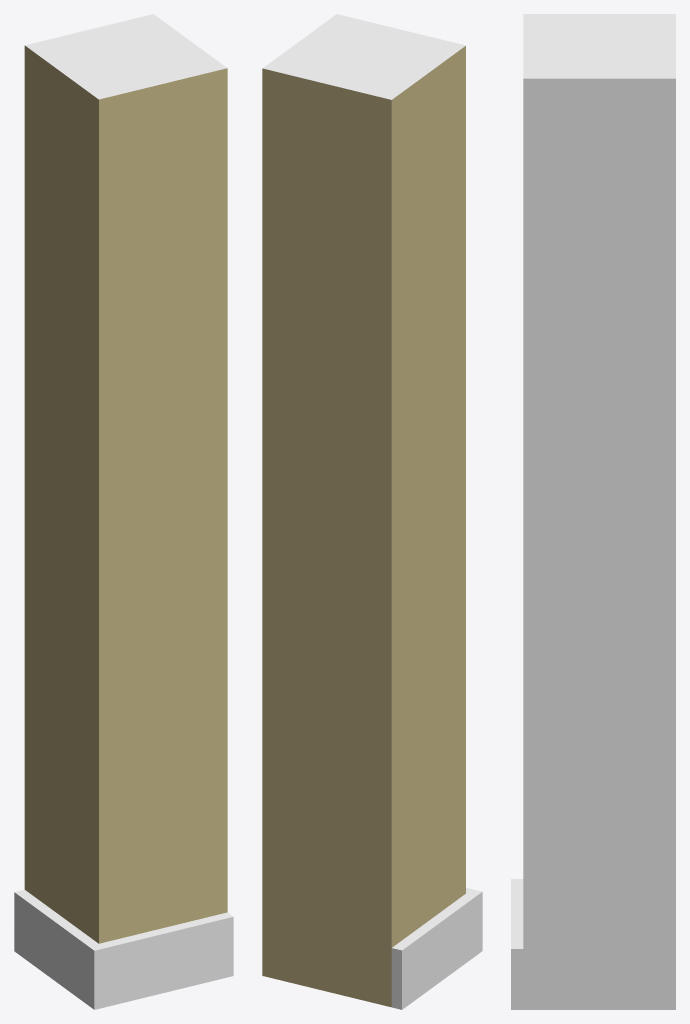
Rendered from Column.fbx.
3 renders of one model, left to right at view 1: azimuth 30°, elevation 25°; view 2: azimuth 150°, elevation 25°; view 3: azimuth 270°, elevation 25°, orthographic. The views are drawn at different scales.
Parts seen in each view (by area): view 1: Column; view 2: Column; view 3: Column.
Part boxes in pixels (box(x1,y1,x2,y2)): Column: box(14, 14, 233, 1009); Column: box(262, 14, 482, 1009); Column: box(511, 14, 675, 1009).
Bounding box in the file's own units: 403 × 2500 × 401.
1 material, 1 textured.
